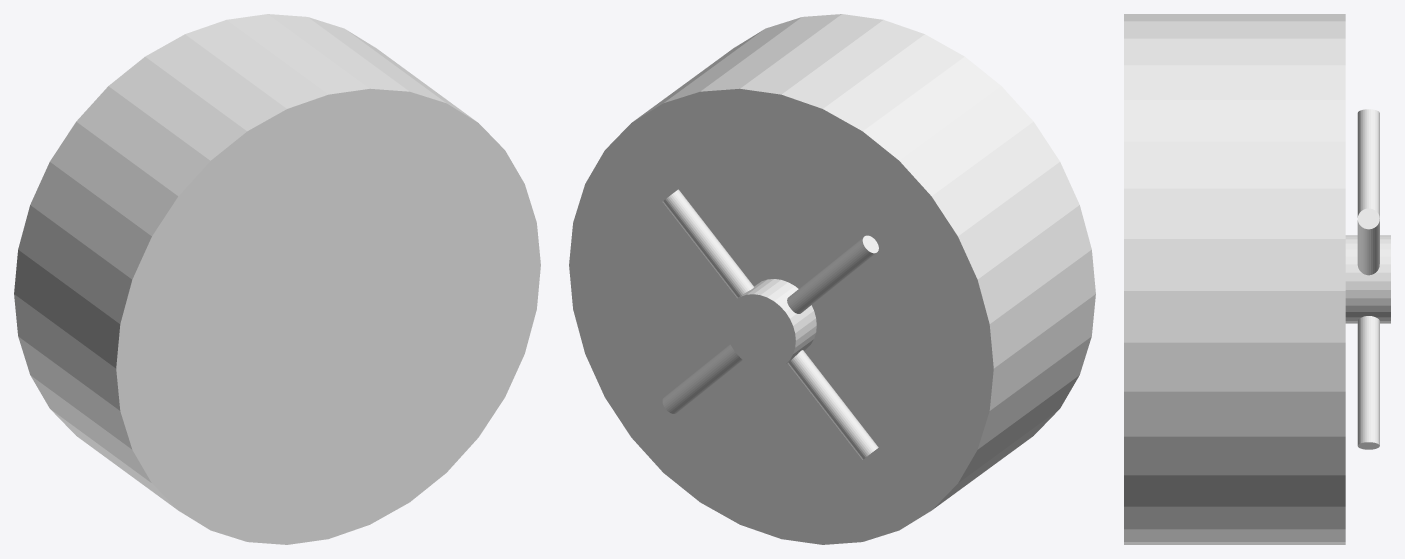
Rendered from GarageDoor.gltf.
3 renders of one model, left to right at view 1: azimuth 30°, elevation 25°; view 2: azimuth 150°, elevation 25°; view 3: azimuth 270°, elevation 25°, orthographic. The views are drawn at different scales.
Visible parts, largest first — view 1: 円柱.002; view 2: 円柱.002; view 3: 円柱.002.
Part boxes in pixels (left/top/right/bottom): 円柱.002: left=14, top=14, right=540, bottom=544; 円柱.002: left=569, top=14, right=1095, bottom=544; 円柱.002: left=1124, top=14, right=1390, bottom=544.
Size of the model in its own units: 24 by 24 by 12.05.
1 material, 1 textured.
